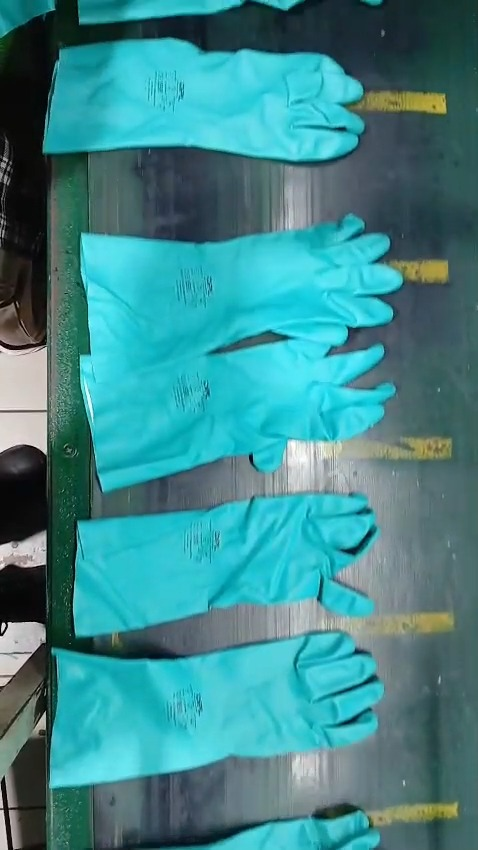glove: (51, 631, 382, 788), (82, 213, 401, 366), (73, 332, 390, 483), (73, 493, 385, 636), (48, 37, 373, 164), (125, 803, 380, 850)
